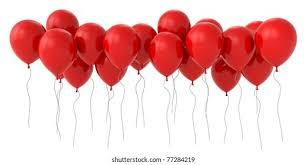red: (256, 17, 297, 65), (40, 28, 75, 79), (186, 21, 224, 67), (9, 20, 46, 65), (220, 25, 256, 70), (104, 24, 139, 70), (149, 32, 183, 79), (74, 23, 105, 62), (240, 53, 273, 88), (94, 52, 128, 85), (158, 10, 191, 42), (131, 23, 156, 65), (212, 60, 241, 93), (64, 54, 92, 88), (45, 9, 79, 35), (179, 53, 204, 84)
